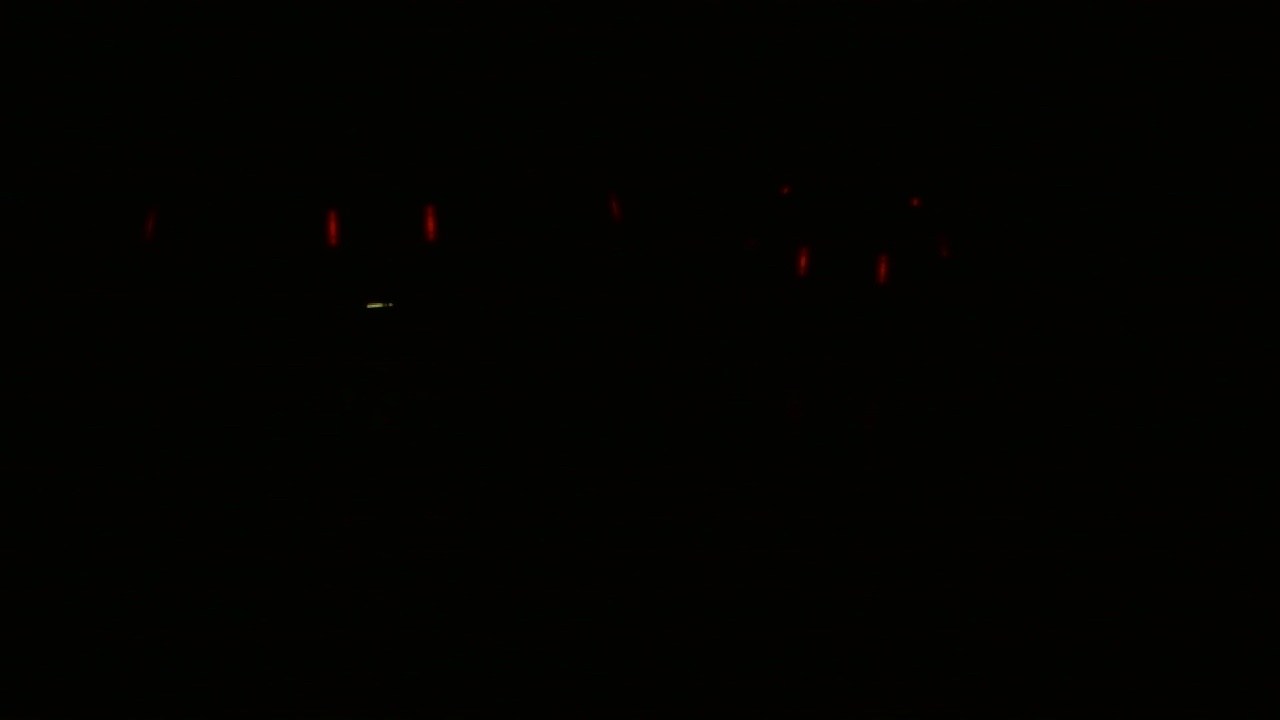pair1: (319, 197, 443, 255)
pair2: (789, 243, 903, 291)
